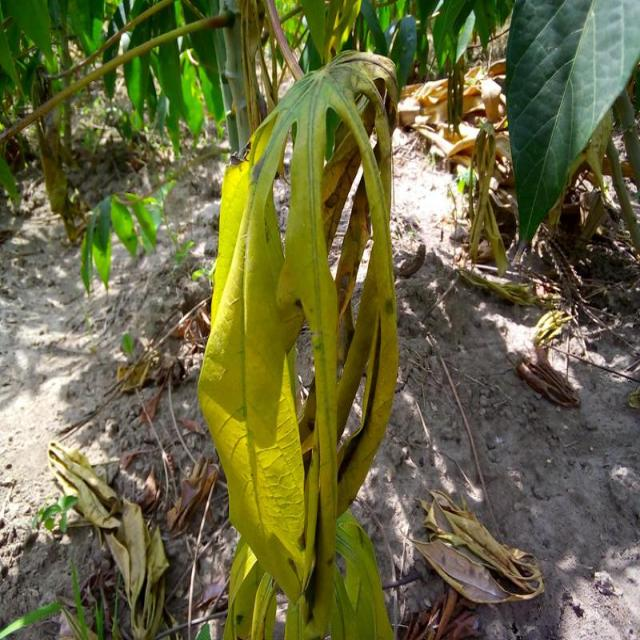cassava leaf: (196, 48, 400, 637), (503, 0, 639, 250)
